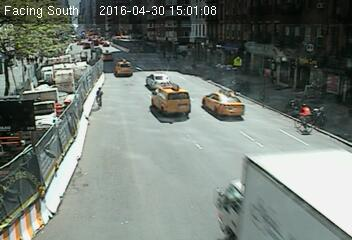neg: (288, 99, 317, 138), (201, 183, 227, 218), (224, 189, 249, 223)
